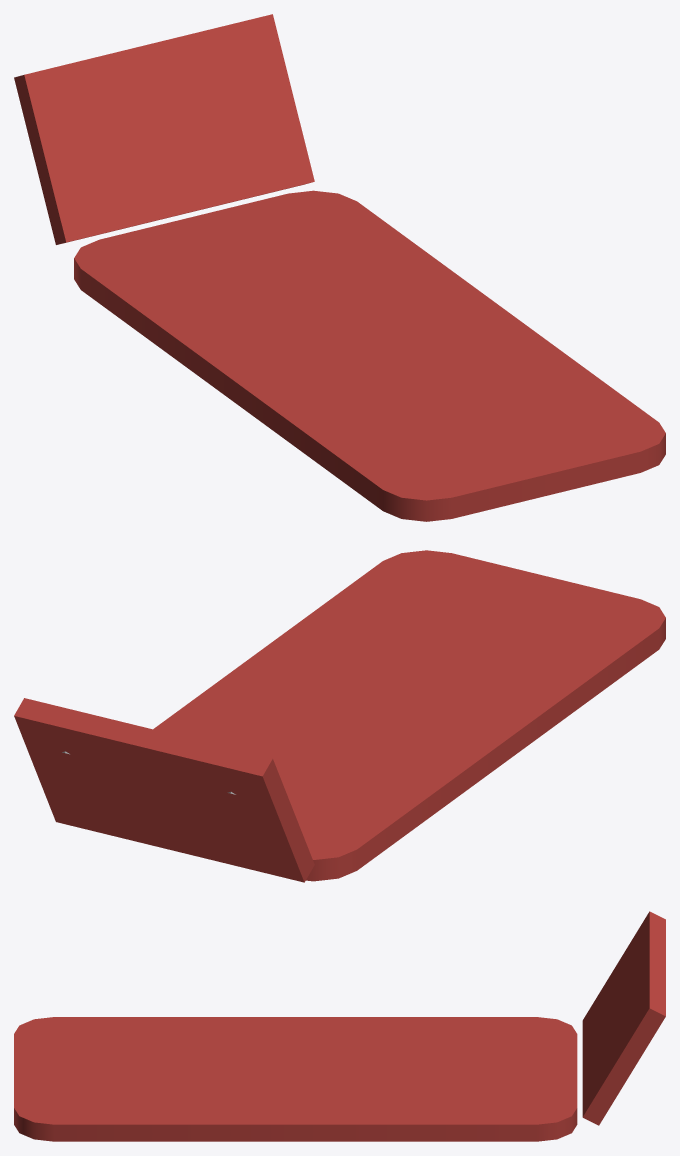
Rendered from skid.glb.
3 views of the same model, one above another, from view 1: azimuth 30°, elevation 25°; view 2: azimuth 150°, elevation 25°; view 3: azimuth 270°, elevation 25° (orthographic). The views are drawn at different scales.
Visible parts, largest first — view 1: lod0; view 2: lod0; view 3: lod0.
Part boxes in pixels (x1=…): lod0: x1=14, y1=14, x2=665, y2=521; lod0: x1=14, y1=550, x2=665, y2=882; lod0: x1=14, y1=911, x2=665, y2=1141.
Size of what is drawn, in the model's own units: 0.19 by 0.1114 by 0.4861.
